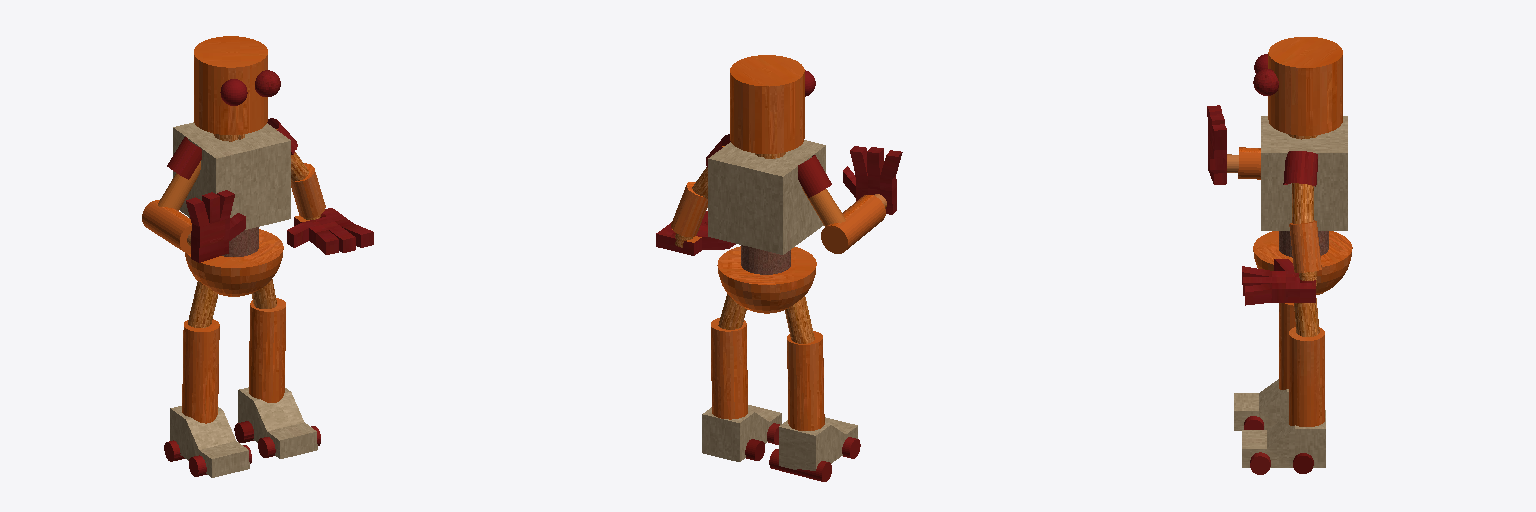
3 renders of one model, left to right at view 1: azimuth 30°, elevation 25°; view 2: azimuth 150°, elevation 25°; view 3: azimuth 270°, elevation 25°, orthographic.
Visible parts, largest first — view 1: Cylinder.029_Cylinder.028; view 2: Cylinder.029_Cylinder.028; view 3: Cylinder.029_Cylinder.028.
Part boxes in pixels (x1,y1,x2,y2): Cylinder.029_Cylinder.028: (142,36,373,477); Cylinder.029_Cylinder.028: (656,55,902,481); Cylinder.029_Cylinder.028: (1207,37,1352,474).
Size of the model in its own units: 12.03 by 22.63 by 7.53.
1 materials, 1 textured.